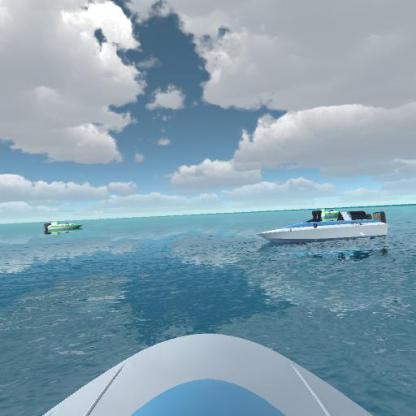usv0: (43, 218, 85, 235), (308, 205, 348, 221)
usv1: (254, 210, 392, 247)
